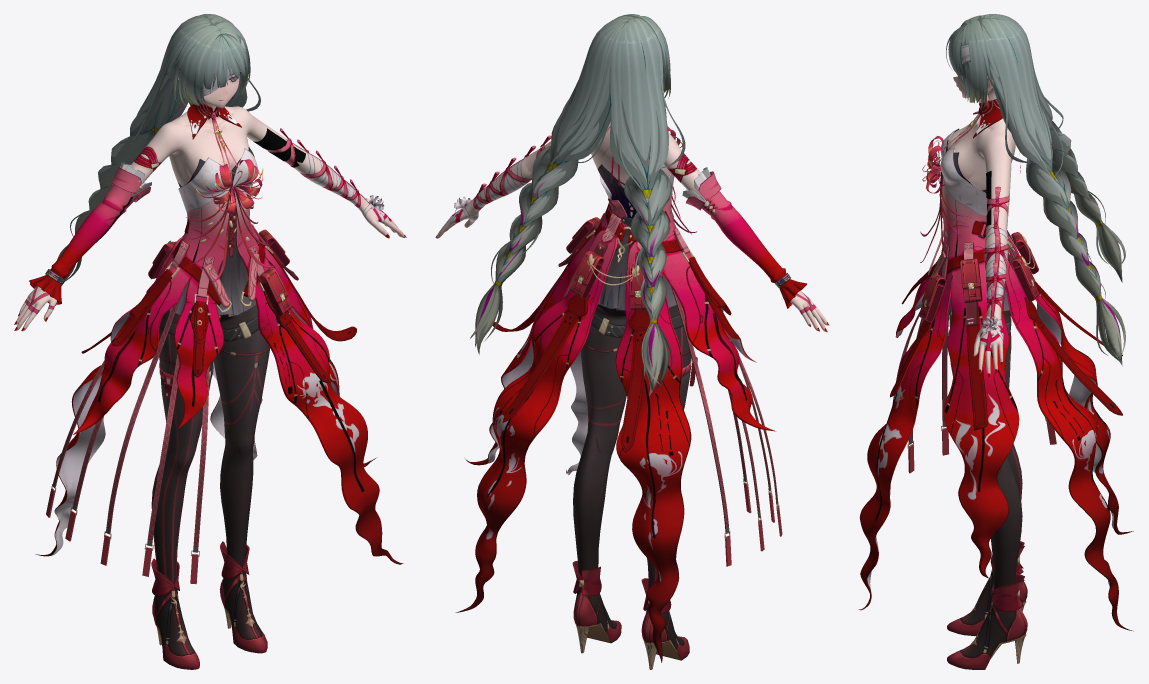
File: phrolova_wuthering_waves.glb
3 renders of one model, left to right at view 1: azimuth 30°, elevation 25°; view 2: azimuth 150°, elevation 25°; view 3: azimuth 270°, elevation 25°, orthographic.
Visible parts, largest first — view 1: clothes_up, pants, clothes_down, body, back_hair, front__hair, arm_Clothes, flower, tacet_Mark; view 2: clothes_up, back_hair, pants, clothes_down, body, arm_Clothes, front__hair; view 3: clothes_up, back_hair, pants, body, clothes_down, front__hair, flower, arm_Clothes.
Part boxes in pixels (left/top/right/bottom): clothes_up: left=35, top=95, right=403, bottom=564; pants: left=151, top=304, right=270, bottom=669; clothes_down: left=46, top=187, right=298, bottom=584; body: left=16, top=99, right=405, bottom=330; back_hair: left=57, top=14, right=260, bottom=286; front__hair: left=168, top=22, right=250, bottom=106; arm_Clothes: left=29, top=128, right=384, bottom=305; flower: left=186, top=159, right=275, bottom=281; tacet_Mark: left=253, top=128, right=305, bottom=167; clothes_up: left=455, top=126, right=775, bottom=662; back_hair: left=470, top=16, right=685, bottom=396; pants: left=572, top=304, right=697, bottom=669; clothes_down: left=558, top=197, right=782, bottom=566; body: left=436, top=122, right=827, bottom=331; arm_Clothes: left=454, top=135, right=806, bottom=308; front__hair: left=615, top=14, right=670, bottom=98; clothes_up: left=859, top=99, right=1133, bottom=631; back_hair: left=978, top=14, right=1125, bottom=365; pants: left=947, top=309, right=1027, bottom=669; body: left=947, top=88, right=1015, bottom=375; clothes_down: left=889, top=215, right=1056, bottom=495; front__hair: left=946, top=15, right=997, bottom=108; flower: left=920, top=136, right=970, bottom=262; arm_Clothes: left=980, top=186, right=1001, bottom=335.
Bounding box in the file's own units: 2.43 × 3.74 × 1.49.
14 materials, 7 textured.
